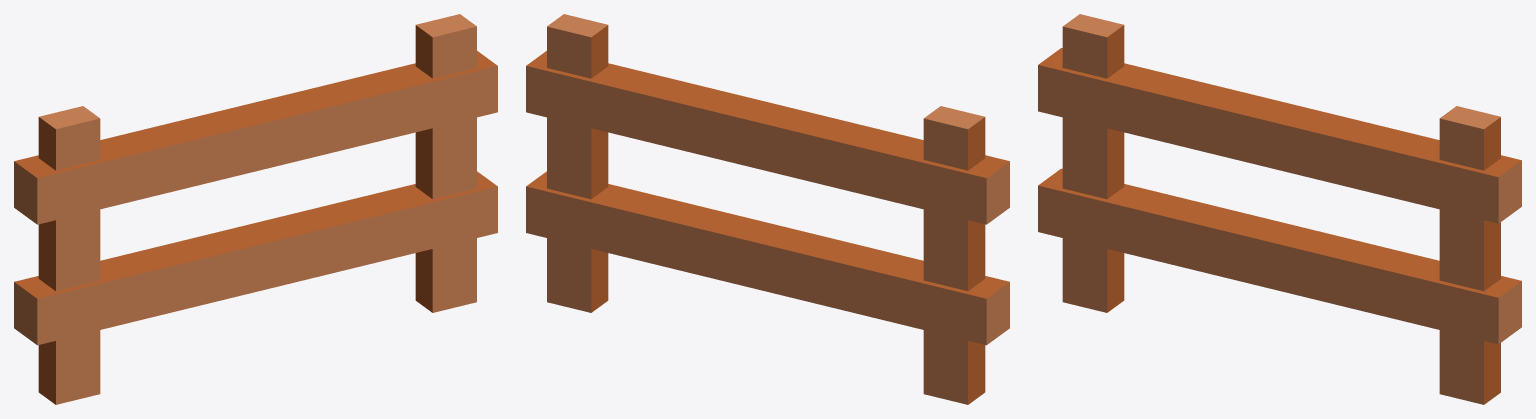
The model's file is FenceAs.fbx.
3 views of the same model, side by side, from view 1: azimuth 30°, elevation 25°; view 2: azimuth 150°, elevation 25°; view 3: azimuth 330°, elevation 25° (orthographic).
Parts seen in each view (by area): view 1: Fence; view 2: Fence; view 3: Fence.
Part boxes in pixels (x1,y1,x2,y2): Fence: (14, 14, 497, 404); Fence: (526, 14, 1009, 404); Fence: (1038, 14, 1521, 404).
Bounding box in the file's own units: 365 × 209 × 31.94.
Materials: 1 (1 with a texture image).
